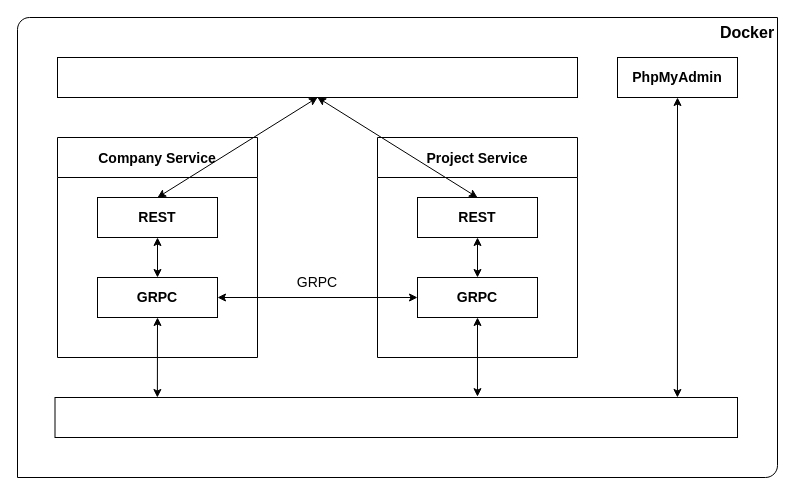
This 795x495 diagram has some shape labels left out. Here are the shapes that lost their labels. From the top down, the centre of each, then its label:
At [317,77]: "NGINX".
At [396,417]: "MySQL Database".
